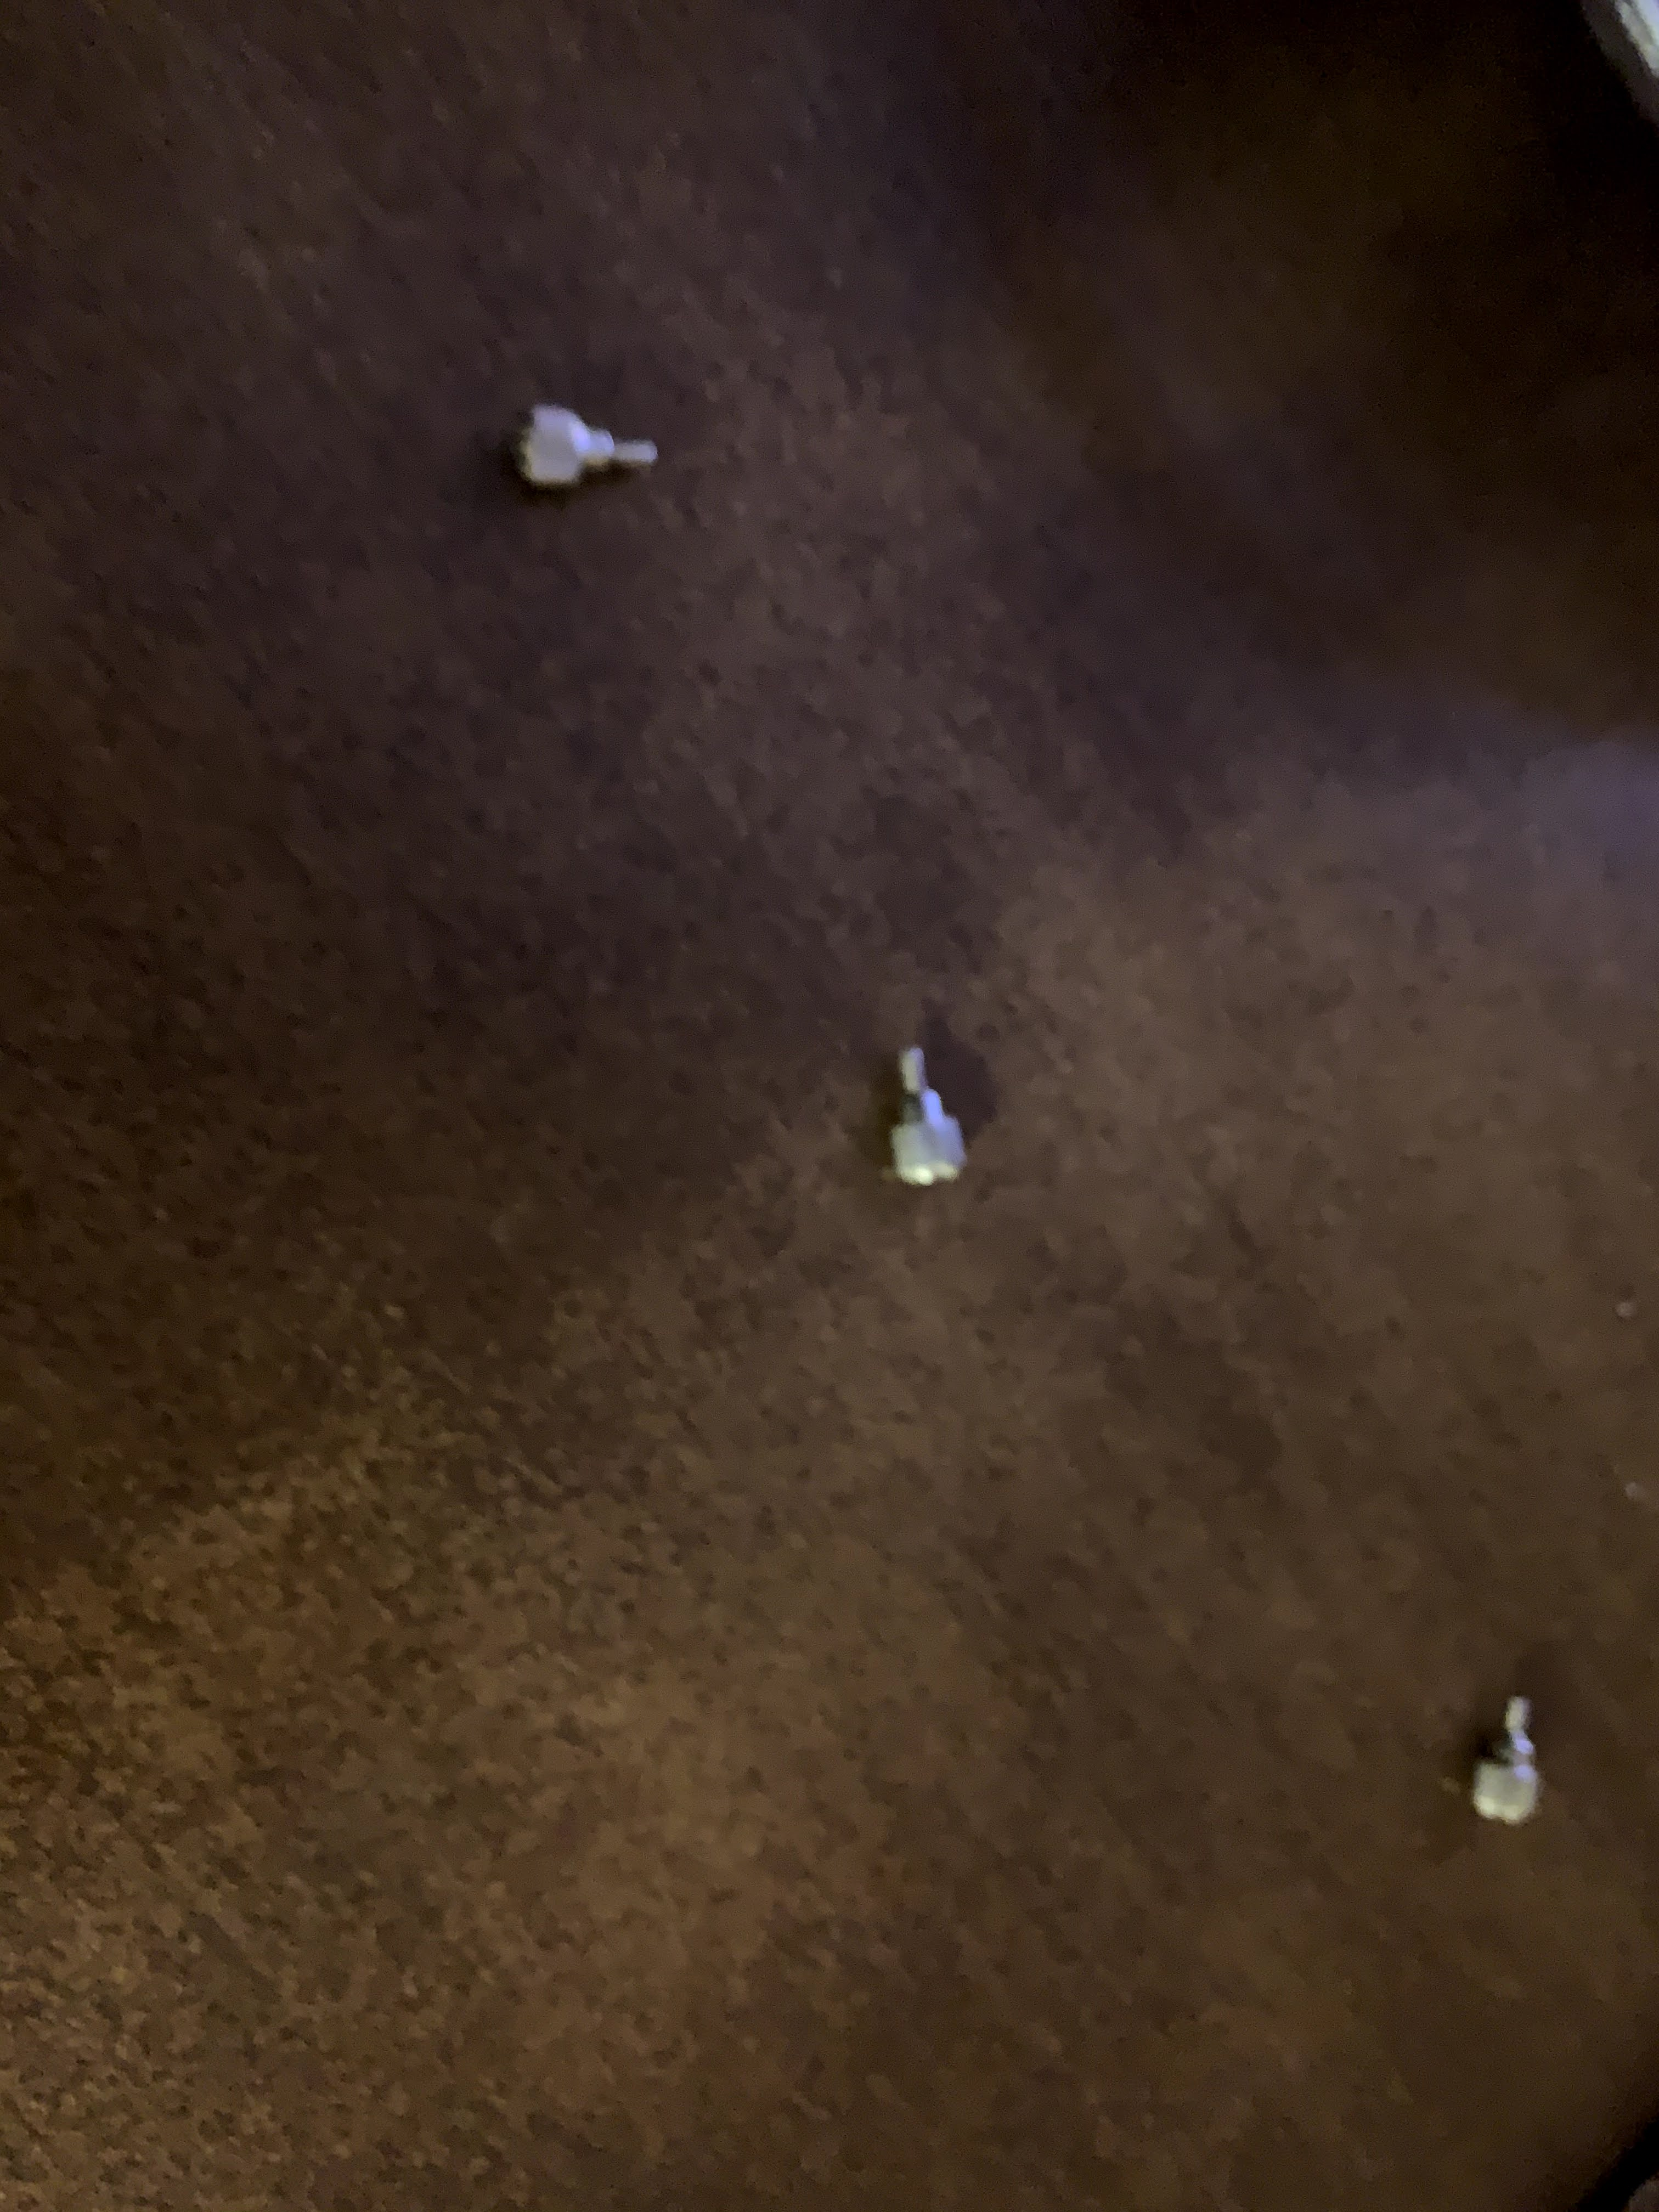Space-debris-small: (507, 394, 667, 507), (878, 1038, 974, 1209), (1466, 1669, 1558, 1834)
